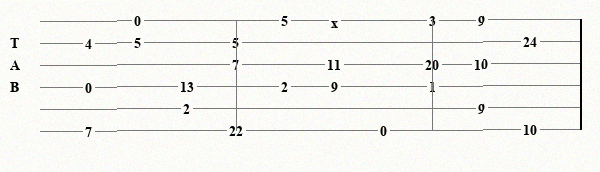0: (85, 79, 96, 93), (134, 13, 145, 27), (380, 123, 391, 137)
1: (429, 79, 440, 93)
10: (474, 57, 492, 71), (523, 123, 541, 137)
11: (327, 57, 345, 71)
13: (180, 79, 198, 93)
2: (183, 101, 194, 115), (281, 79, 292, 93)
20: (425, 57, 443, 71)
22: (229, 123, 247, 137)
24: (523, 35, 541, 49)
3: (429, 13, 440, 27)
4: (85, 35, 96, 49)
5: (134, 35, 145, 49), (232, 35, 243, 49), (281, 13, 292, 27)
7: (85, 123, 96, 137), (232, 57, 243, 71)
9: (331, 79, 342, 93), (478, 101, 489, 115), (478, 13, 489, 27)
x: (331, 15, 342, 26)
